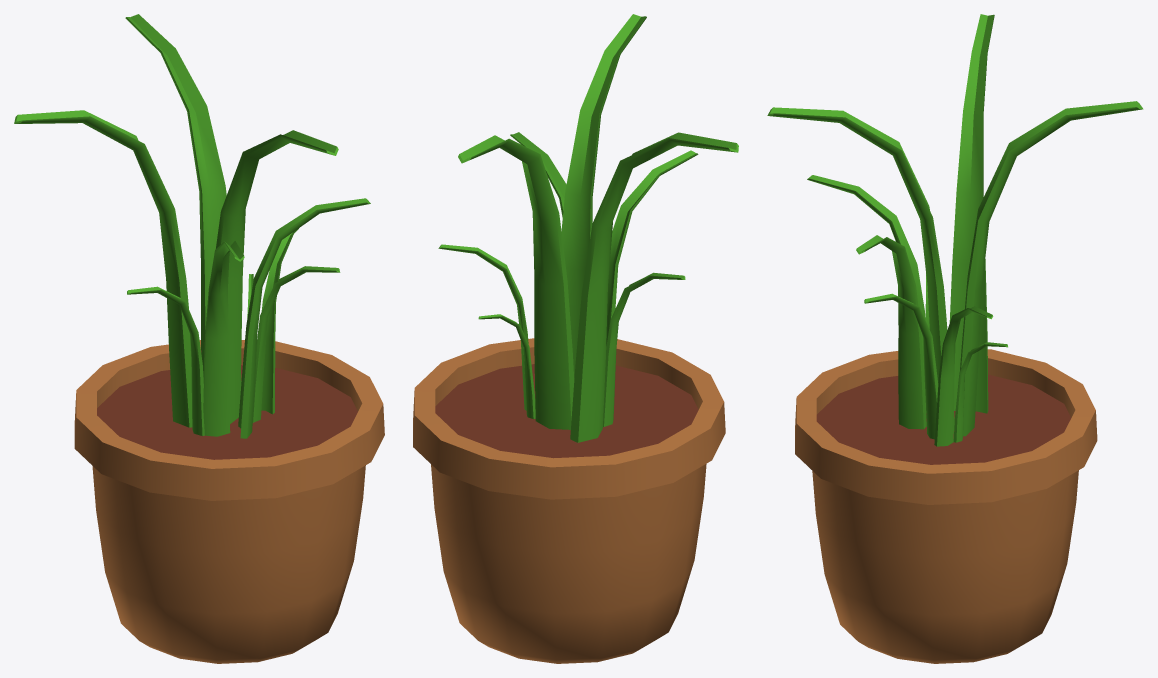
Rendered from plant 2.fbx.
3 renders of one model, left to right at view 1: azimuth 30°, elevation 25°; view 2: azimuth 150°, elevation 25°; view 3: azimuth 270°, elevation 25°, orthographic. The views are drawn at different scales.
Visible parts, largest first — view 1: plant 2; view 2: plant 2; view 3: plant 2.
Part boxes in pixels (box(x1,y1,x2,y2)): plant 2: box(14, 14, 384, 663); plant 2: box(413, 14, 738, 663); plant 2: box(767, 14, 1143, 663).
Bounding box in the file's own units: 1.8 × 2.82 × 1.85.
